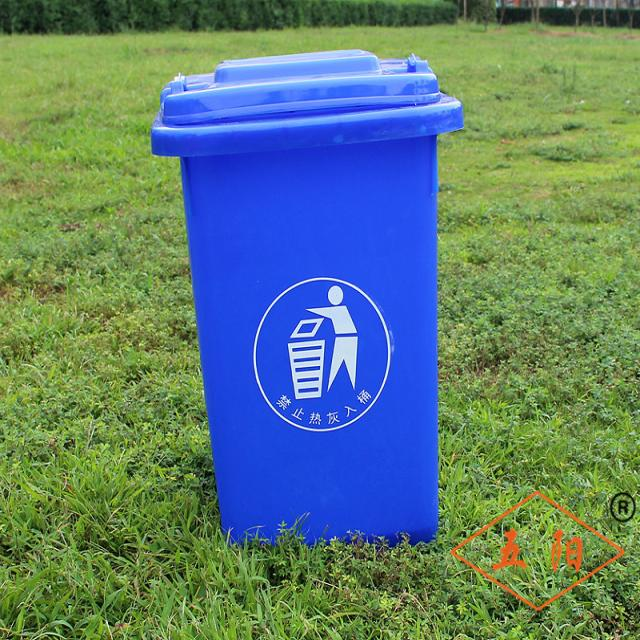garbage_bin: (150, 49, 462, 542)
